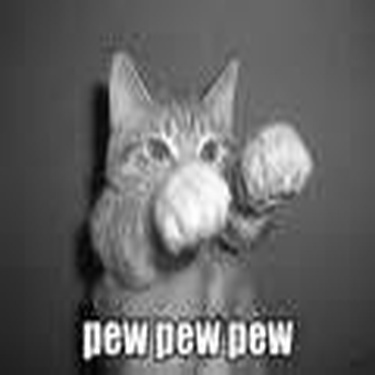cat: (102, 51, 307, 321)
